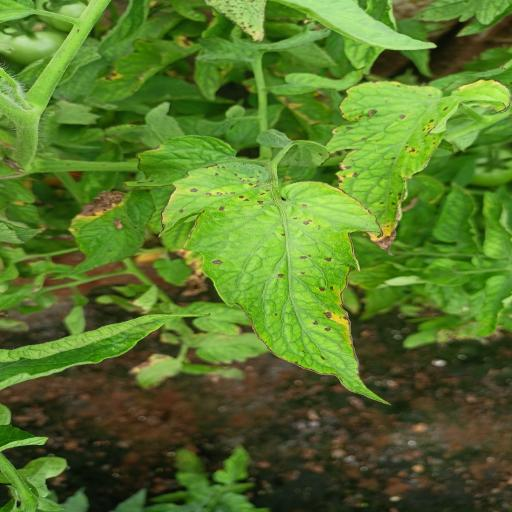Early Blight: (156, 157, 396, 405), (322, 79, 467, 256)
